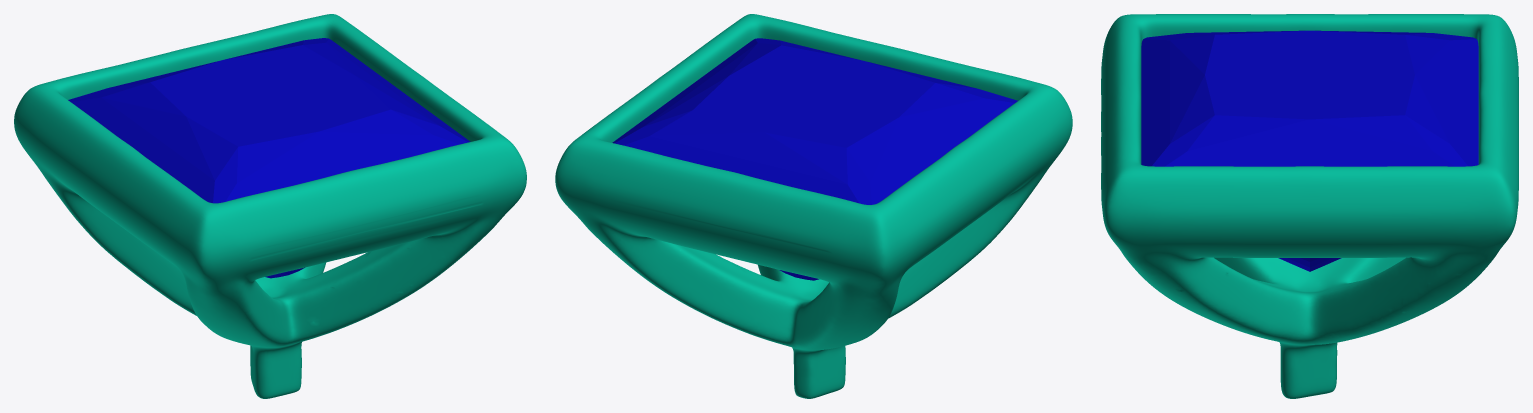
Rendered from Princess.glb.
3 renders of one model, left to right at view 1: azimuth 30°, elevation 25°; view 2: azimuth 150°, elevation 25°; view 3: azimuth 270°, elevation 25°, orthographic. The views are drawn at different scales.
Visible parts, largest first — view 1: /GSMOD388300- BEZEL_Princess_IJ.3dm, Diamond_Princess; view 2: /GSMOD388300- BEZEL_Princess_IJ.3dm, Diamond_Princess; view 3: /GSMOD388300- BEZEL_Princess_IJ.3dm, Diamond_Princess.
Boxes of the visible parts, x1,y1,x2,y2 form: /GSMOD388300- BEZEL_Princess_IJ.3dm: (14,14,526,398); Diamond_Princess: (68,38,470,278); /GSMOD388300- BEZEL_Princess_IJ.3dm: (555,14,1072,398); Diamond_Princess: (612,38,1017,280); /GSMOD388300- BEZEL_Princess_IJ.3dm: (1101,14,1518,398); Diamond_Princess: (1141,30,1478,271).
Size of the model in its own units: 7.78 by 6.48 by 7.78.
